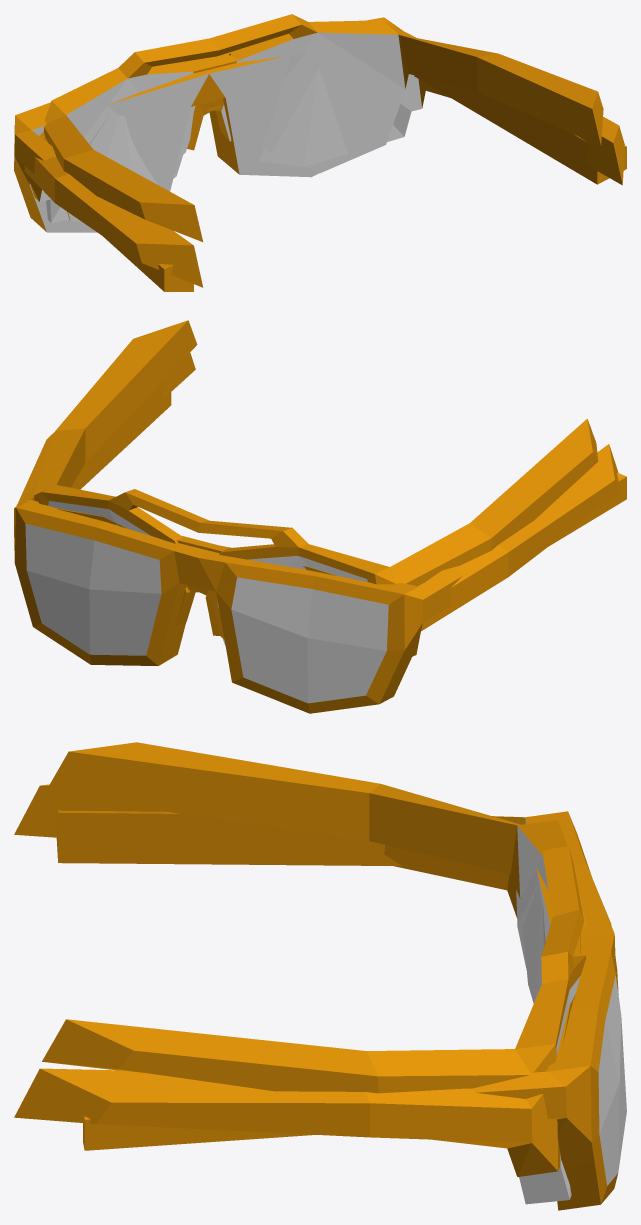
Rendered from Glasses.fbx.
The picture shows the model from 3 angles, top to bottom: view 1: azimuth 30°, elevation 25°; view 2: azimuth 150°, elevation 25°; view 3: azimuth 270°, elevation 25°; orthographic projection. The views are drawn at different scales.
Visible parts, largest first — view 1: SM_Prop_Glasses_02, SM_Prop_Glasses_01, SM_Prop_Glasses_03; view 2: SM_Prop_Glasses_01, SM_Prop_Glasses_02, SM_Prop_Glasses_03; view 3: SM_Prop_Glasses_02, SM_Prop_Glasses_01, SM_Prop_Glasses_03.
Part boxes in pixels (box(x1,y1,x2,y2)): SM_Prop_Glasses_02: box(44, 14, 603, 241); SM_Prop_Glasses_01: box(14, 17, 626, 291); SM_Prop_Glasses_03: box(24, 52, 624, 287); SM_Prop_Glasses_01: box(14, 379, 626, 713); SM_Prop_Glasses_02: box(33, 320, 598, 638); SM_Prop_Glasses_03: box(17, 352, 620, 656); SM_Prop_Glasses_02: box(42, 742, 586, 1093); SM_Prop_Glasses_01: box(56, 810, 626, 1210); SM_Prop_Glasses_03: box(14, 784, 575, 1204).
Size of the model in its own units: 20.95 by 7.29 by 16.65.
